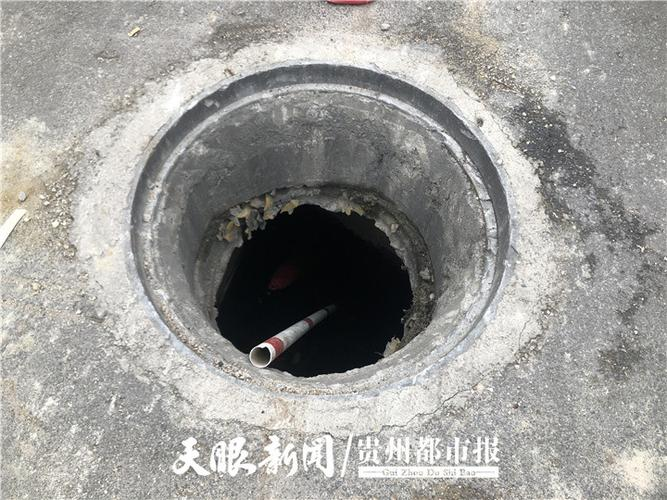lose: (88, 43, 551, 413)
